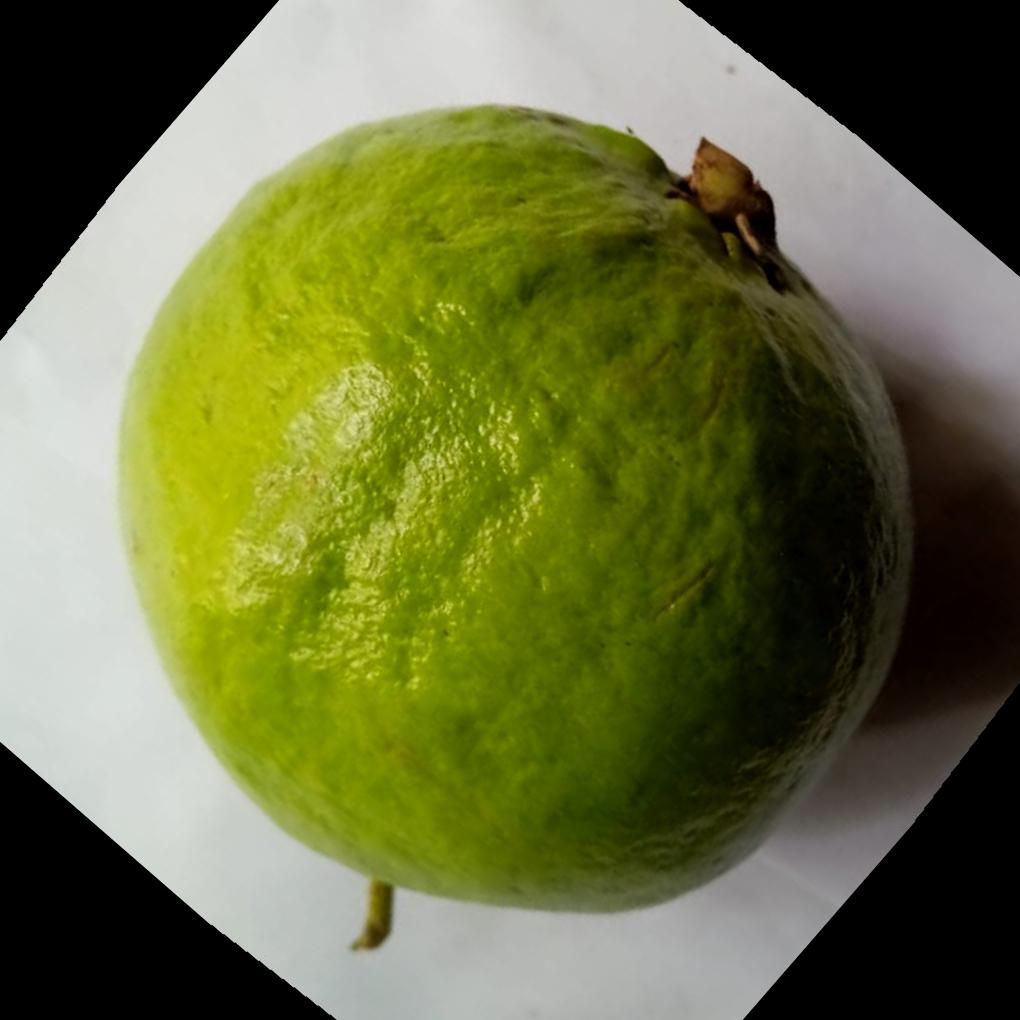FreshGuava: (111, 98, 915, 916)
